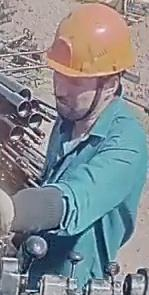helmet: (45, 2, 136, 82)
vest: (37, 83, 149, 284)
